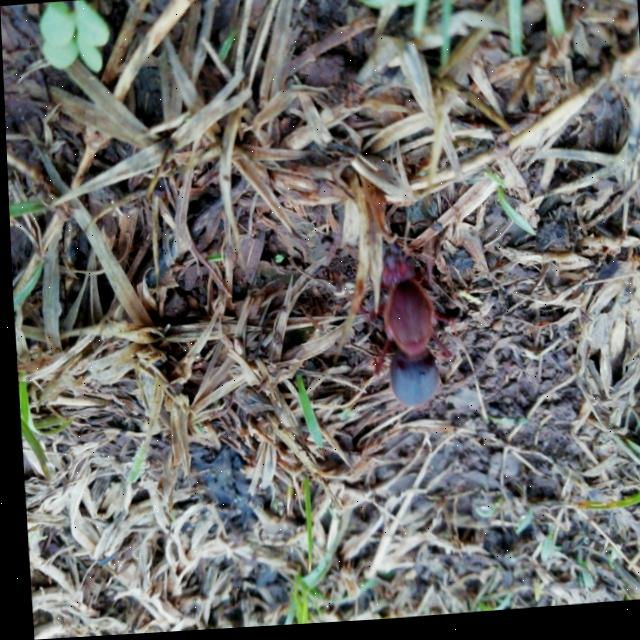Alive-Female-Dealate: (334, 221, 456, 417)
